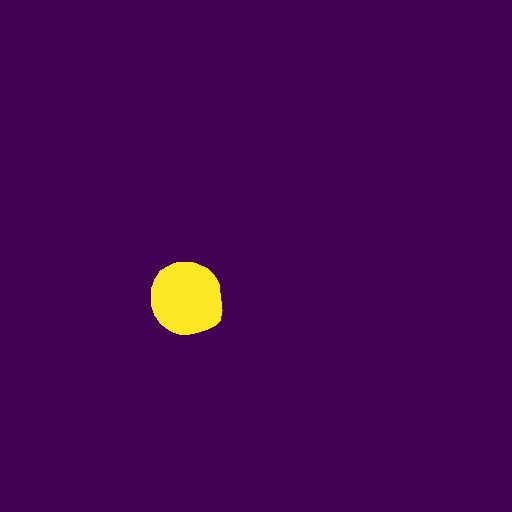Menigiomia_tumour: (151, 262, 223, 335)
